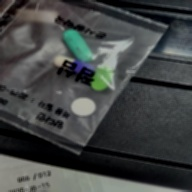러키펜정: (71, 98, 97, 118)
씨엠지세파클러캡슐: (54, 56, 96, 76)
에르도캡슐: (62, 30, 95, 63)
휴티렌정: (90, 64, 113, 91)
